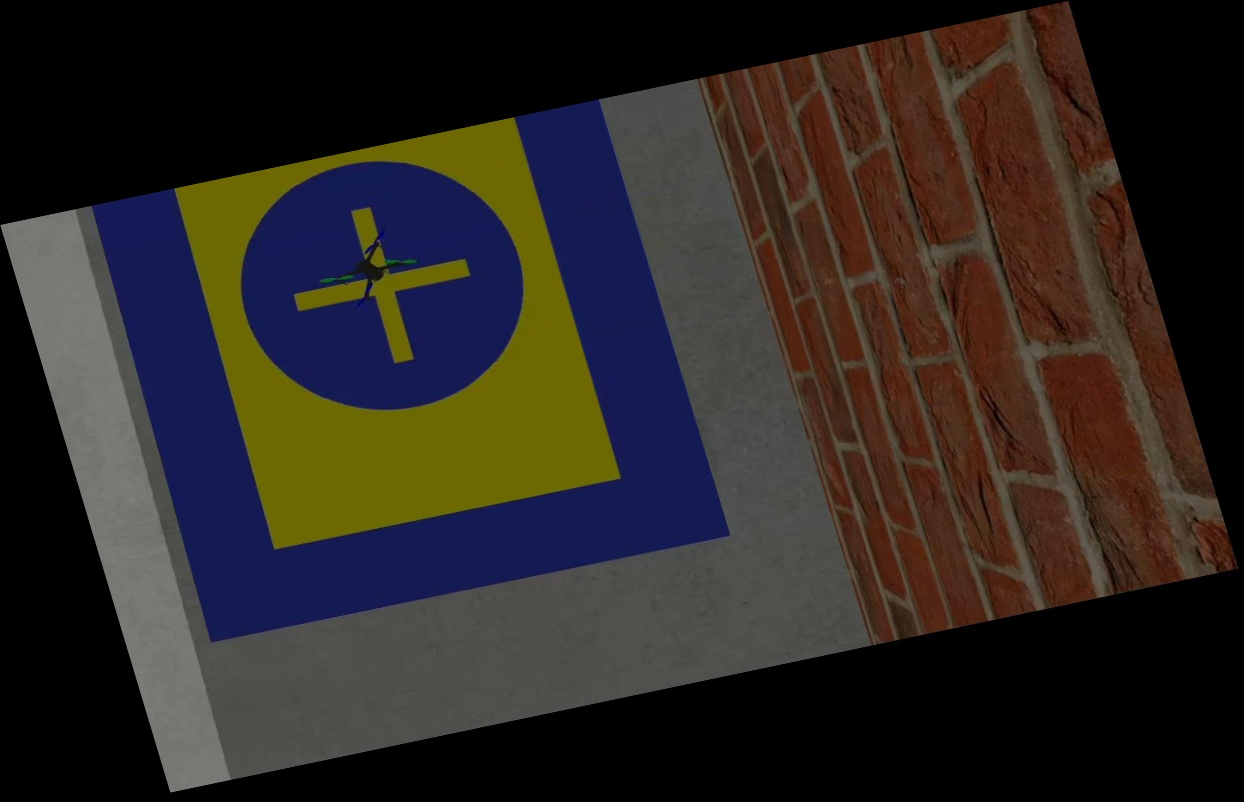large_base: (80, 99, 732, 649)
